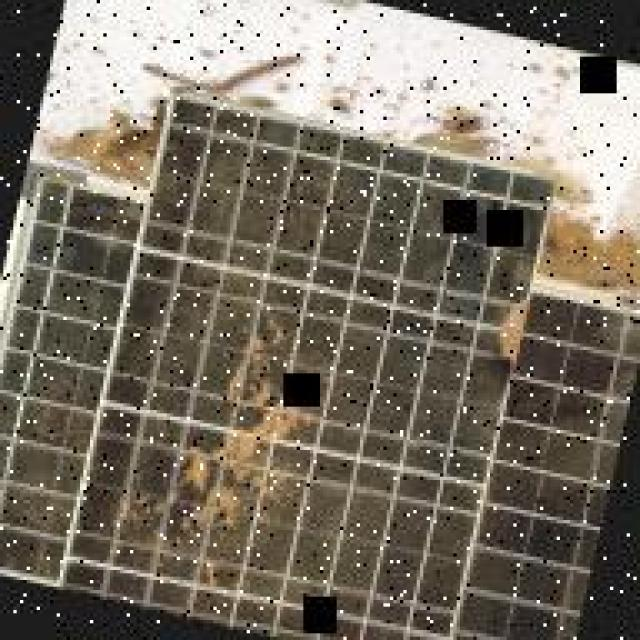dust-solar-panel: (0, 99, 640, 640)
